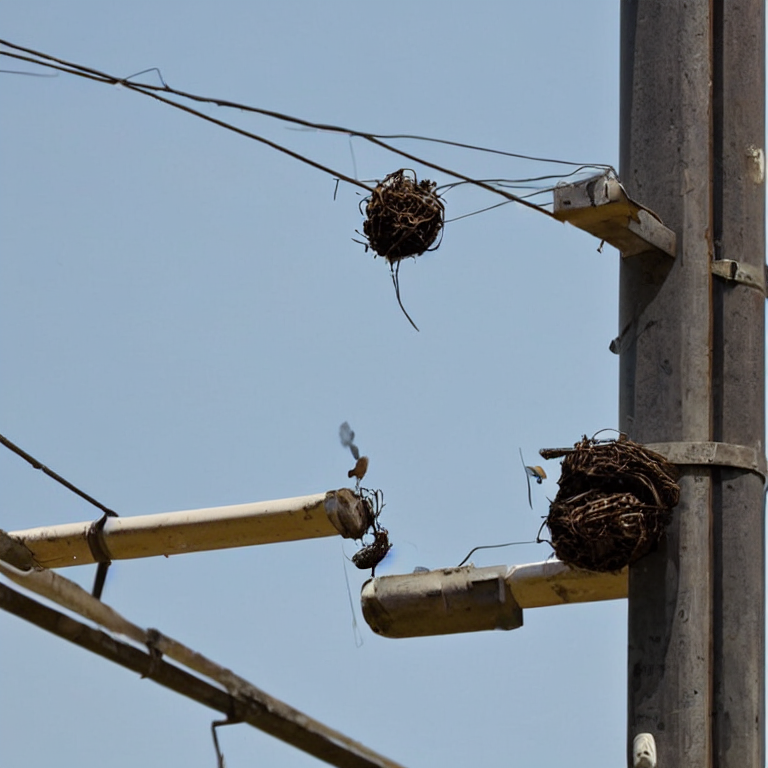nest: (551, 443, 663, 566), (364, 172, 446, 261)
